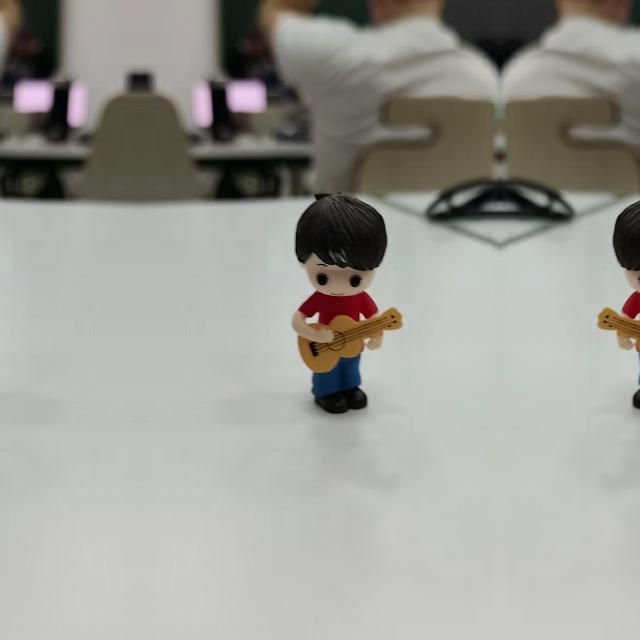man cloth: (297, 290, 377, 322), (623, 290, 640, 322)
man head: (290, 186, 388, 302), (611, 186, 640, 302)
trousers: (314, 354, 370, 422), (630, 354, 640, 421)
